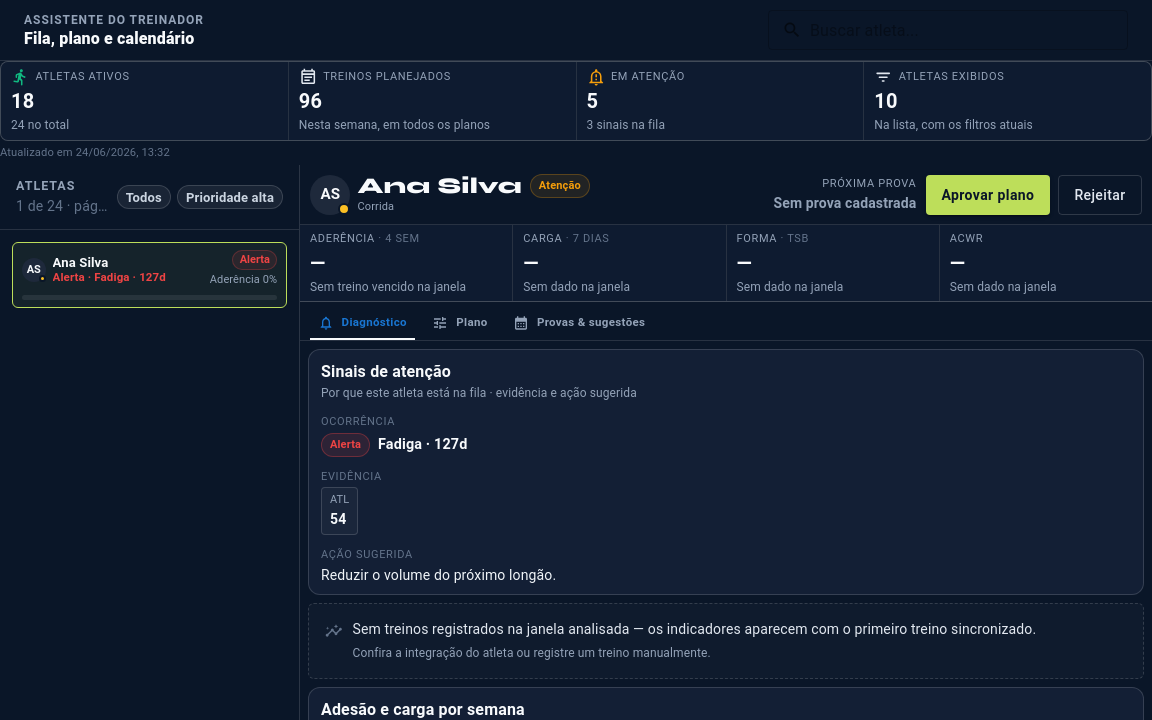
Test: CoachInboxPage › mostra o plano real do atleta na aba Plano (sem o mock "Ajuste rápido")
Click the tab "Plano" at (460, 322), box [415, 306, 505, 340]
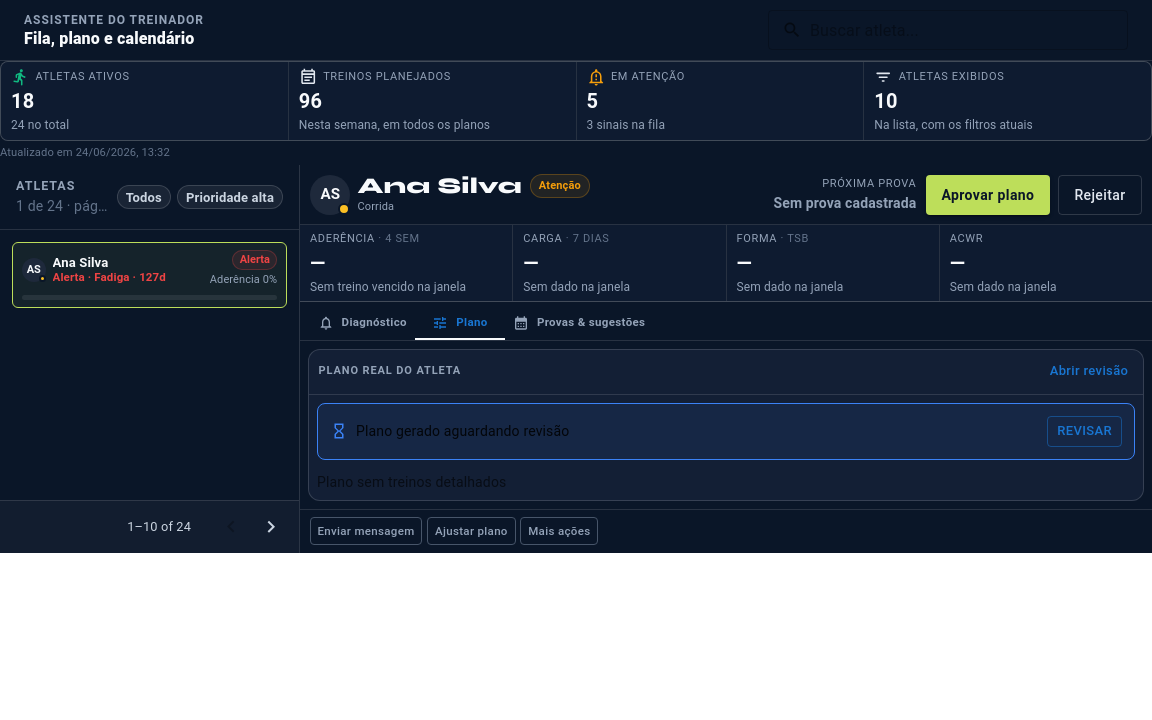
Check: the text "Plano real do atleta" is shown, box [319, 364, 461, 380]
